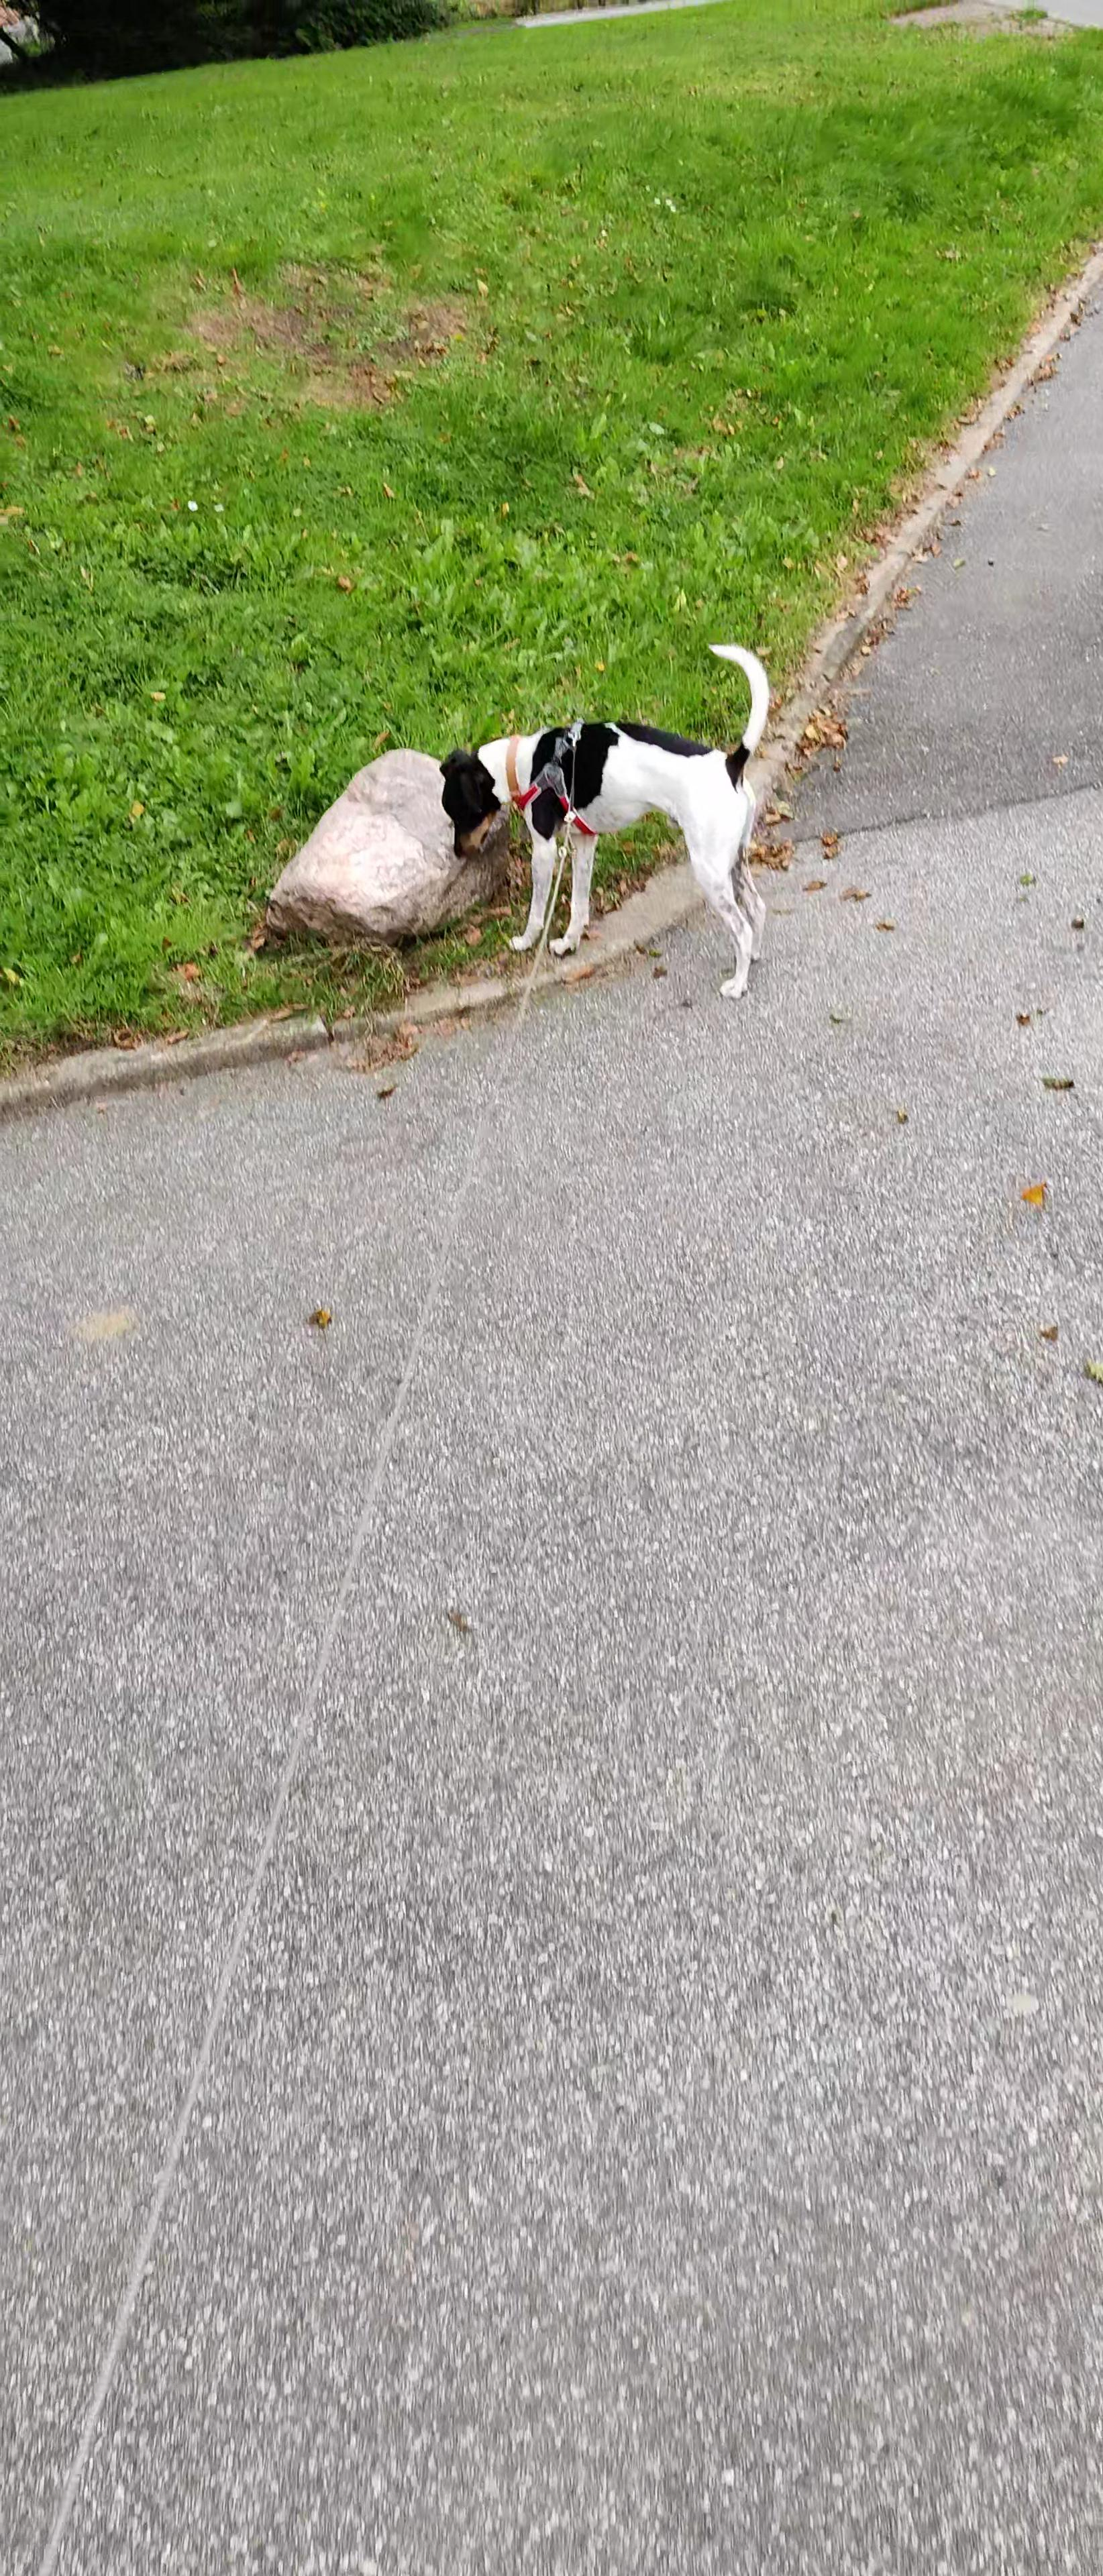Dog: (439, 637, 781, 1002)
